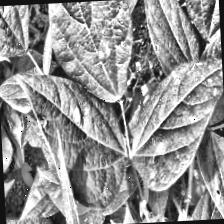Bean Rust: (19, 64, 137, 215), (124, 52, 224, 197), (50, 0, 134, 107)
